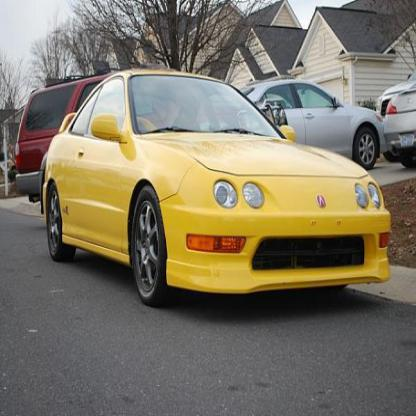Vehicle: (44, 69, 392, 310)
